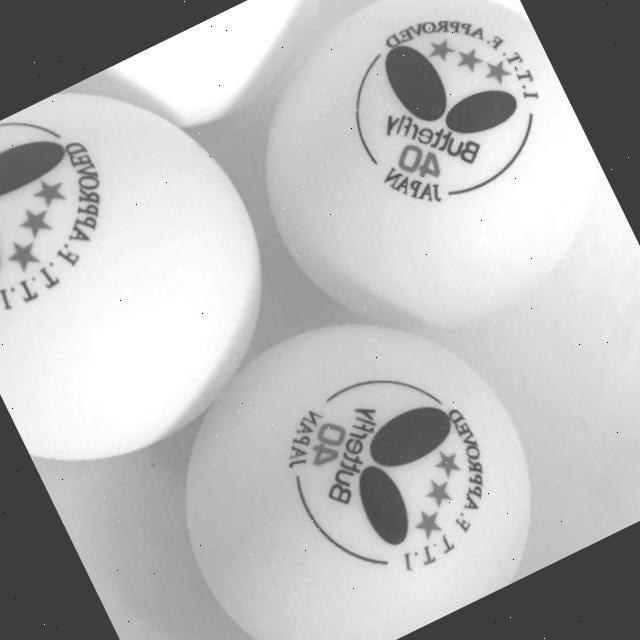ping-pong-ball: (123, 273, 572, 640), (211, 0, 639, 382), (0, 60, 294, 478)
